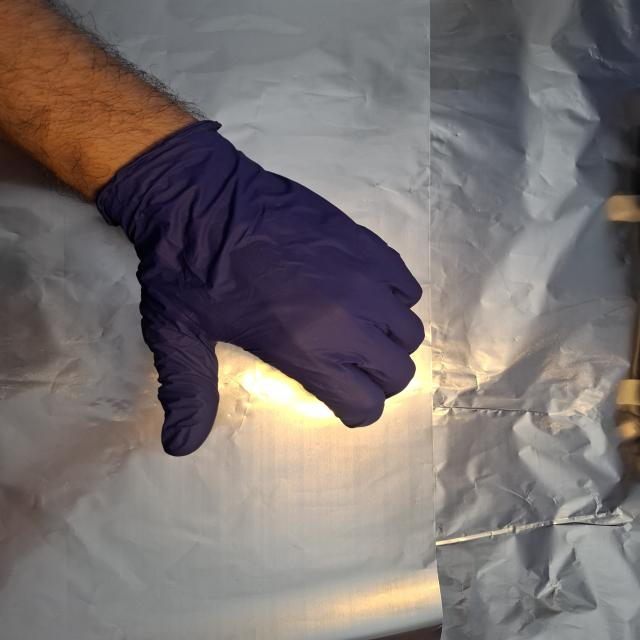glove_on: (99, 121, 430, 460)
